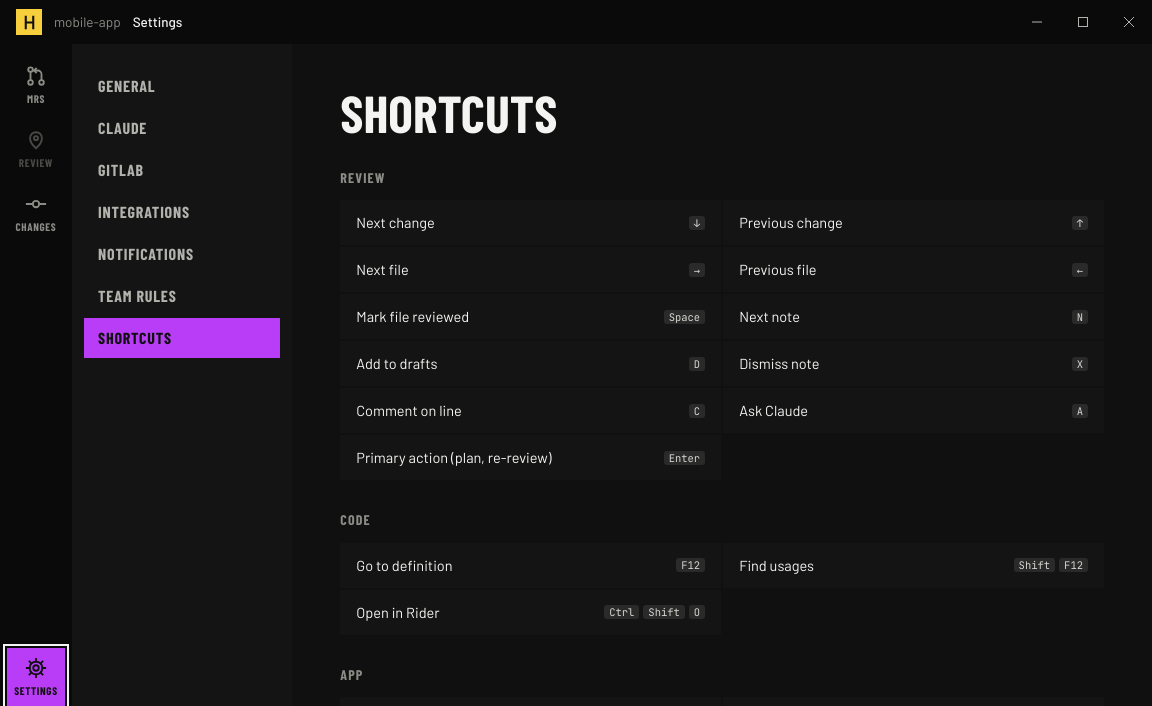
Test case: Settings › Shortcuts › changing a shortcut › F-19.7 Esc after a refused key cancels the capture and clears the message
Check: the heading "Shortcuts" is shown, box x1=340 y1=88 x2=557 y2=138
Click the button named "Change shortcut for Next note" at (1080, 317), box x1=1068 y1=303 x2=1092 y2=331
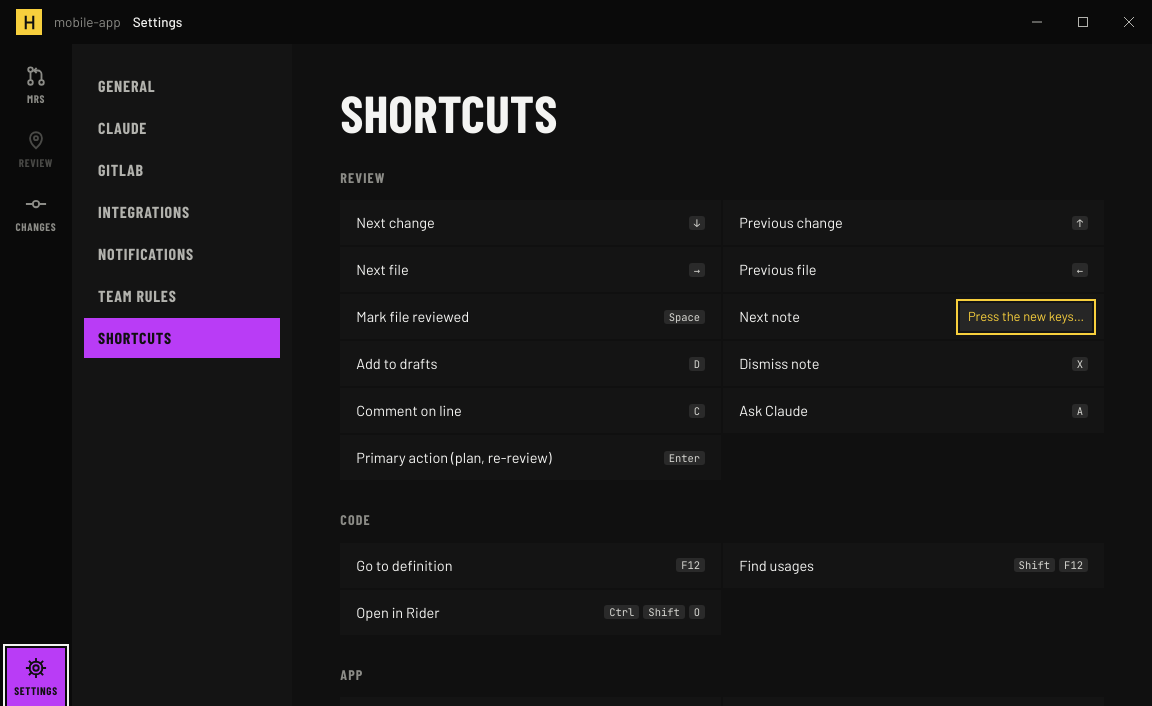
Type keys "d"
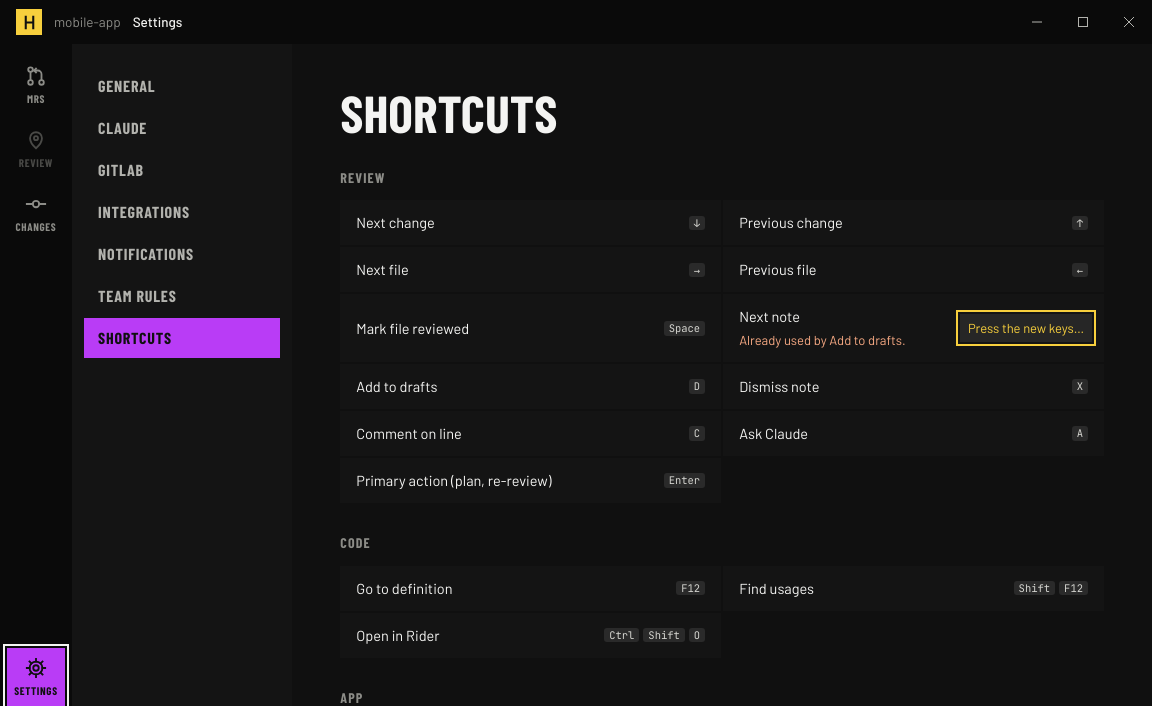
Check: the text "Already used by Add to drafts." is shown, box x1=739 y1=331 x2=906 y2=350
Press Escape
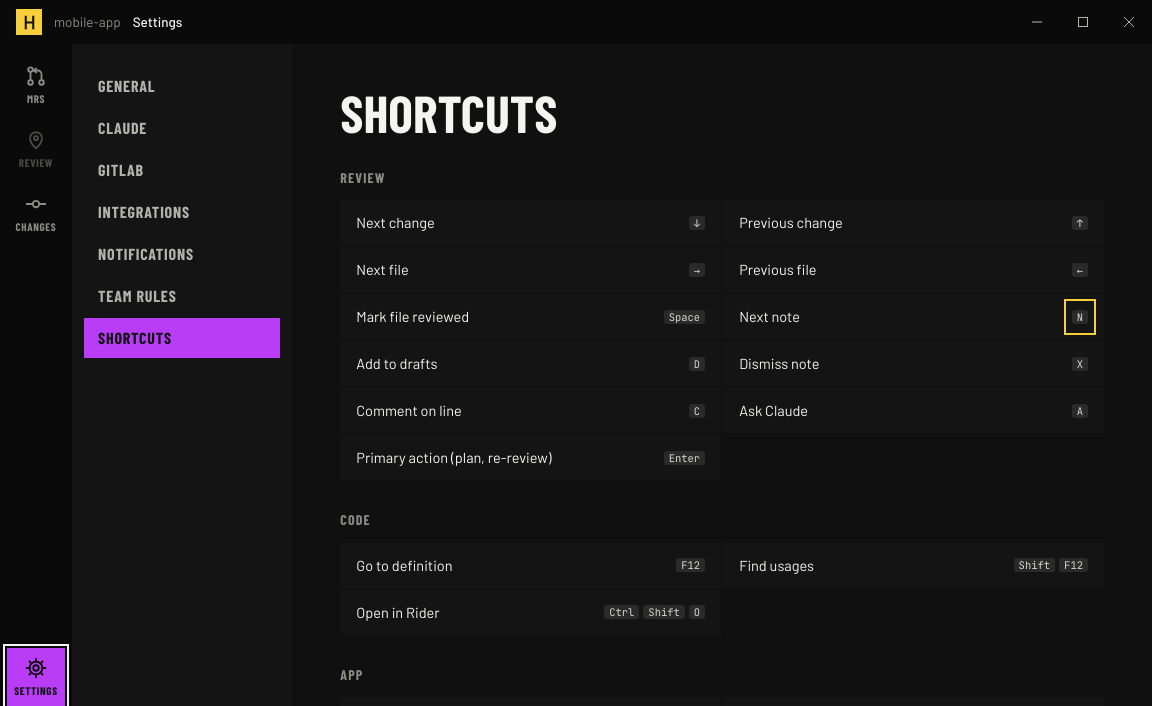
Check: the text "Already used by" is gone
Check: the text "Press the new keys…" is gone
